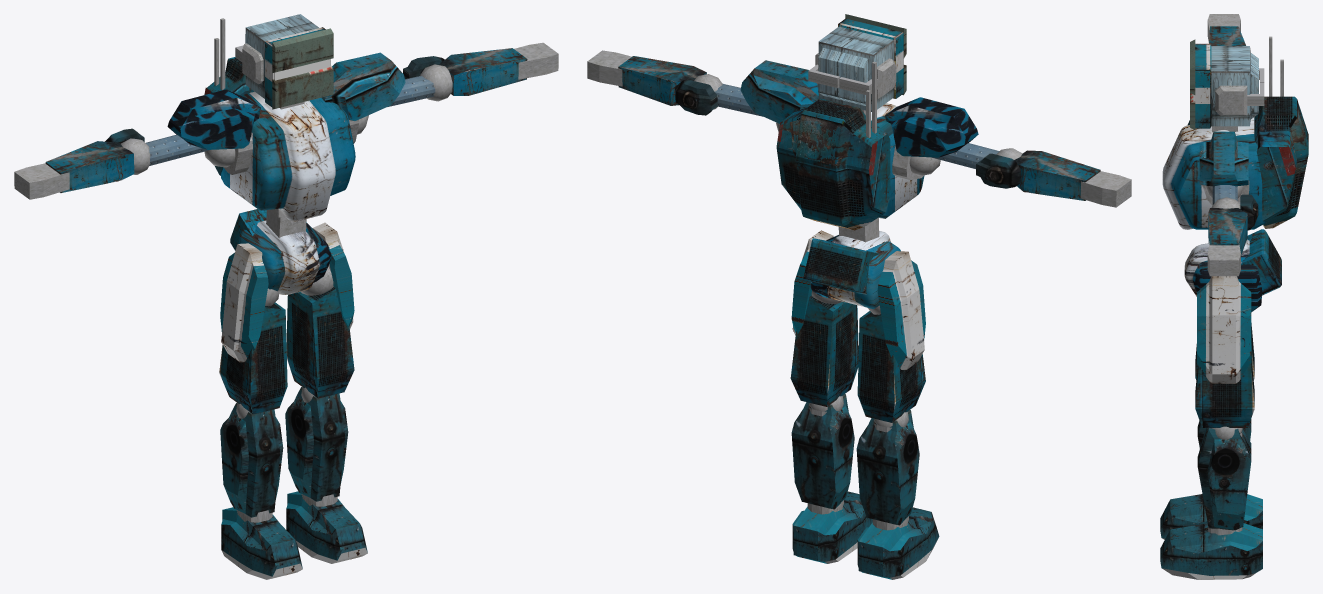
Rendered from Robot 3 Rig test 1.fbx.
The picture shows the model from 3 angles, left to right: view 1: azimuth 30°, elevation 25°; view 2: azimuth 150°, elevation 25°; view 3: azimuth 270°, elevation 25°; orthographic projection. The views are drawn at different scales.
Visible parts, largest first — view 1: Cube.019, Icosphere, Icosphere.001, Cube.005, Icosphere.002, Icosphere.003, Icosphere.004, Cube.020, Icosphere.005, Icosphere.007, Cube.023, Cube.012 (+3 smaller); view 2: Cube.019, Icosphere, Icosphere.001, Cube.005, Icosphere.002, Icosphere.003, Icosphere.004, Cube.020, Icosphere.006, Icosphere.005, Icosphere.007, Cube.023 (+3 smaller); view 3: Cube.019, Icosphere.001, Cube.005, Cube.012, Icosphere.002, Cube.020, Icosphere.005, Icosphere.007, Cube.023, Cube.031, Icosphere.006, Cube.017 (+2 smaller).
Part boxes in pixels (<box>): Cube.019: <box>204,18,359,221</box>; Icosphere: <box>219,243,287,414</box>; Icosphere.001: <box>286,222,354,398</box>; Cube.005: <box>235,14,333,109</box>; Icosphere.002: <box>285,387,348,506</box>; Icosphere.003: <box>220,403,283,522</box>; Icosphere.004: <box>146,89,260,167</box>; Cube.020: <box>230,209,330,294</box>; Icosphere.005: <box>321,52,435,134</box>; Icosphere.007: <box>403,48,527,101</box>; Cube.023: <box>221,507,302,579</box>; Cube.012: <box>286,491,367,563</box>; Cube.019: <box>776,61,924,230</box>; Icosphere: <box>857,251,925,422</box>; Icosphere.001: <box>790,230,858,406</box>; Cube.005: <box>808,14,906,111</box>; Icosphere.002: <box>791,394,854,514</box>; Icosphere.003: <box>856,410,919,530</box>; Icosphere.004: <box>885,97,999,175</box>; Cube.020: <box>803,231,900,309</box>; Icosphere.006: <box>976,148,1100,200</box>; Icosphere.005: <box>715,60,818,131</box>; Icosphere.007: <box>618,56,722,115</box>; Cube.023: <box>857,507,939,579</box>; Cube.019: <box>1162,36,1308,229</box>; Icosphere.001: <box>1195,276,1254,427</box>; Cube.005: <box>1190,39,1264,129</box>; Cube.012: <box>1160,523,1262,579</box>; Icosphere.002: <box>1197,426,1251,535</box>; Cube.020: <box>1184,229,1281,312</box>; Icosphere.005: <box>1199,131,1248,204</box>; Icosphere.007: <box>1208,194,1258,255</box>; Cube.023: <box>1160,494,1262,539</box>; Cube.031: <box>1207,241,1240,276</box>; Icosphere.006: <box>1209,26,1245,45</box>; Cube.017: <box>1207,14,1240,42</box>.
Size of the model in its own units: 1385 by 1316 by 353.
